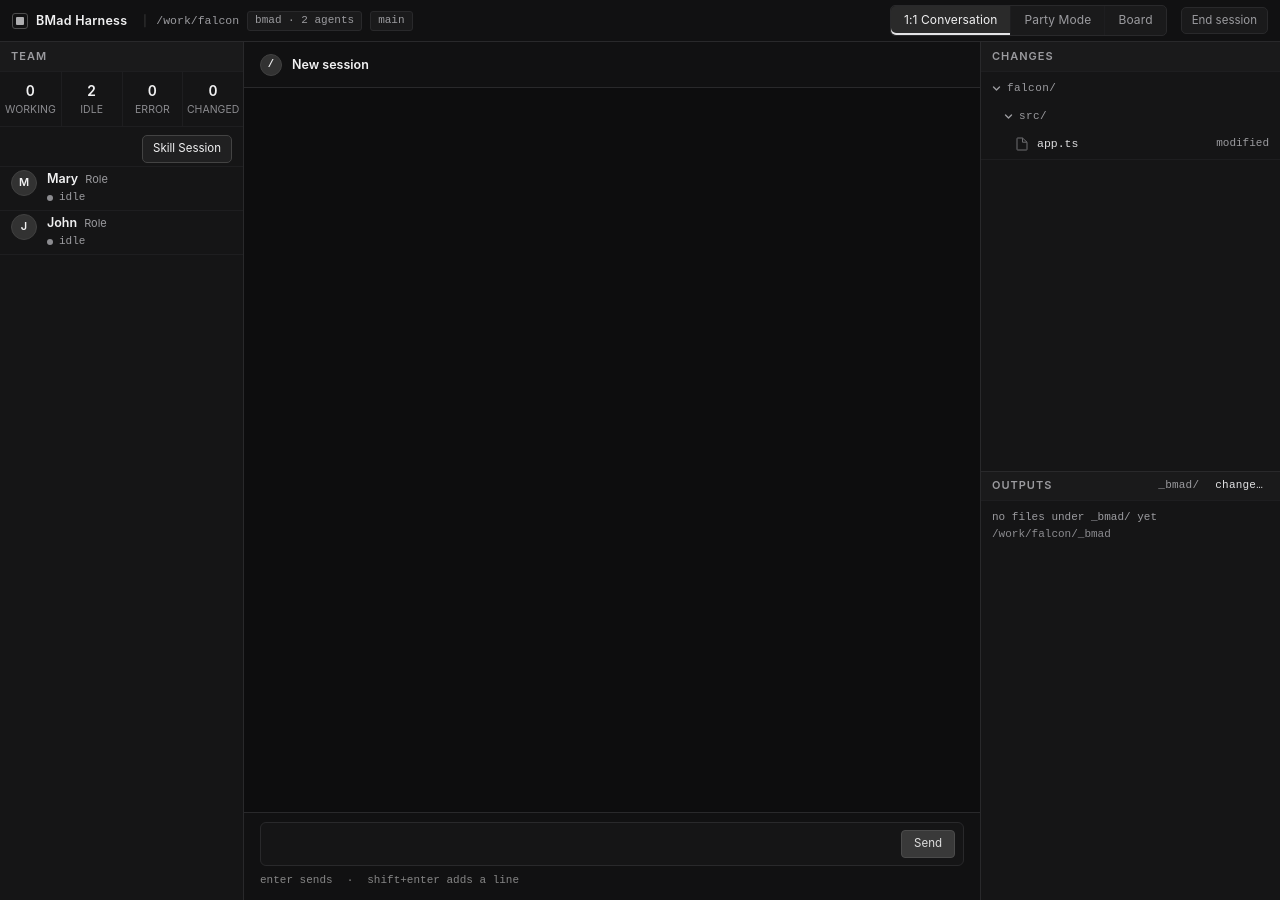
Test: App, the Board › says nothing in the window’s one live region when a new Board revision arrives and a persona changes state (Story 6.9)
Click the button "Board" at (1136, 20), box [1106,6,1166,35]
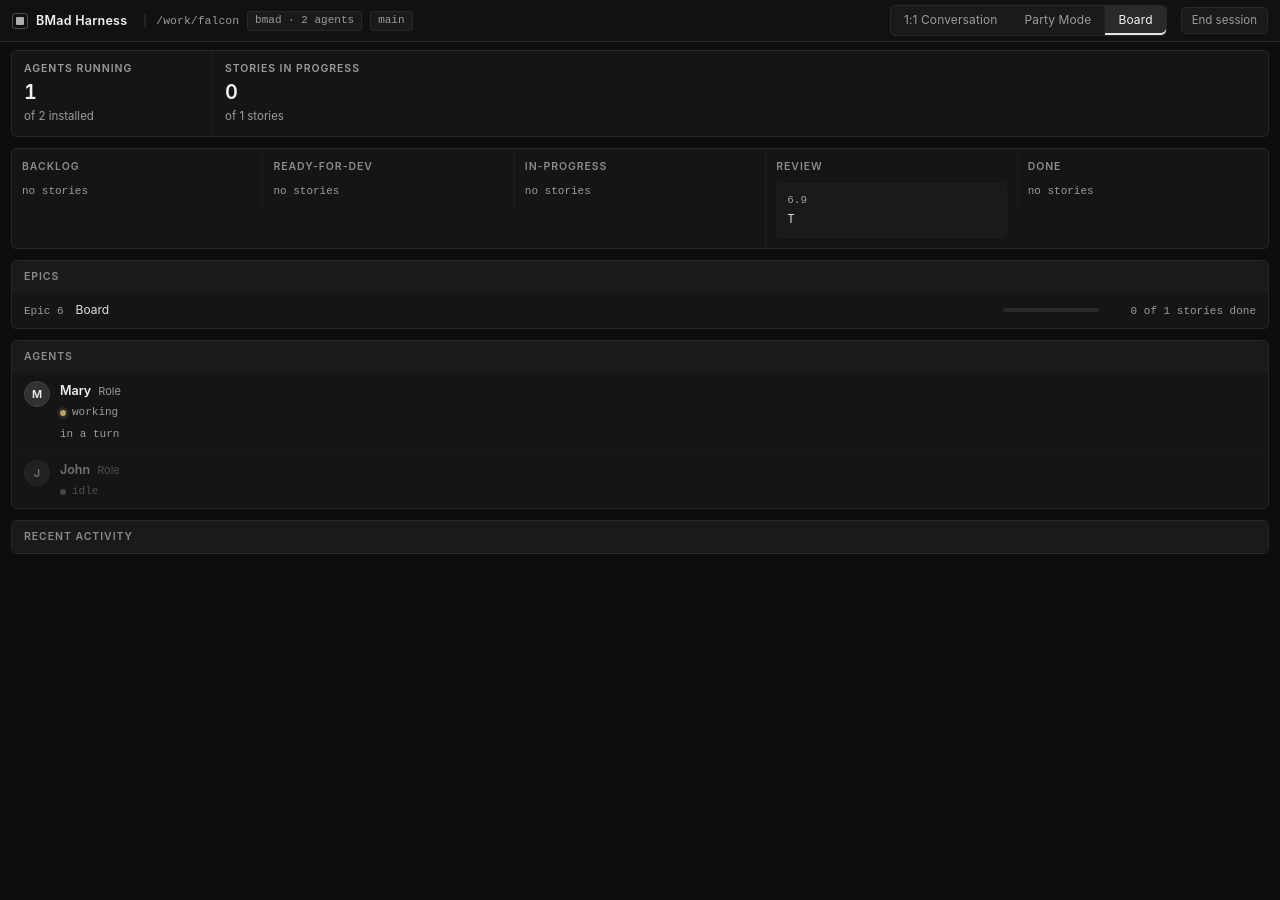
Check: the heading with class "board-column-head" reads "review", box [776,160,823,173]
